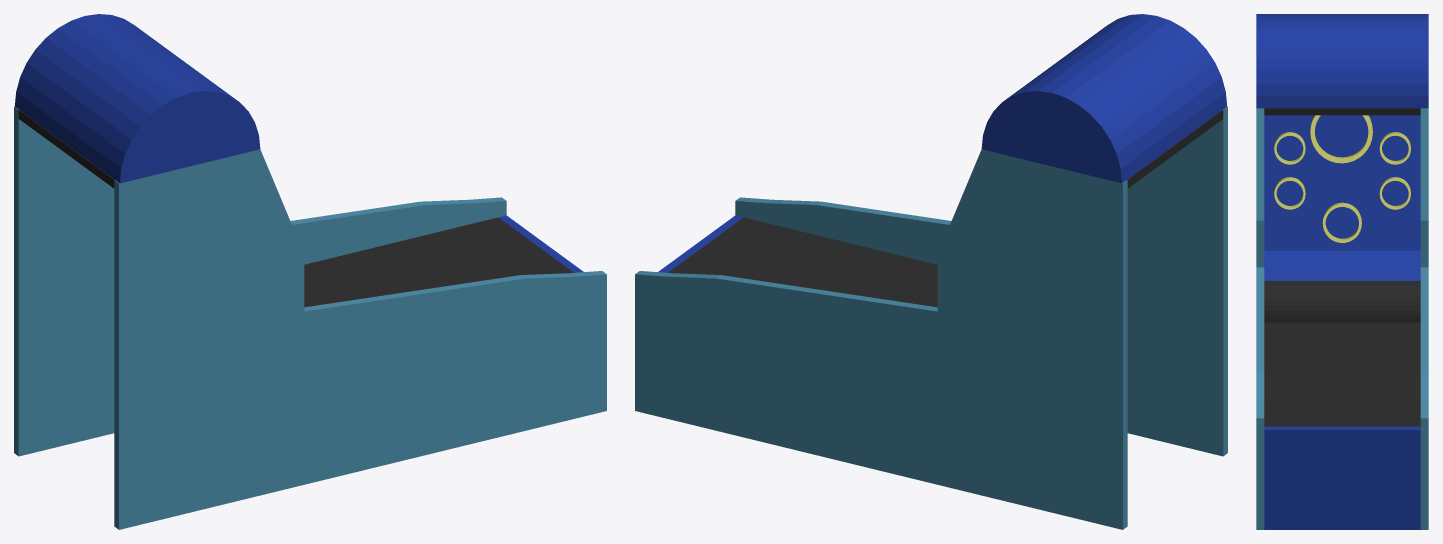
Rendered from CajaPinPonPumB.fbx.
The picture shows the model from 3 angles, left to right: view 1: azimuth 30°, elevation 25°; view 2: azimuth 150°, elevation 25°; view 3: azimuth 270°, elevation 25°; orthographic projection. The views are drawn at different scales.
Visible parts, largest first — view 1: Cube.014, Cube.015, Cube.013, Cylinder.013, Cube.010, Cube.011, Cube.012, Cube.016; view 2: Cube.013, Cube.011, Cube.014, Cylinder.013, Cube.010, Cube.015, Cube.012, Cube.016; view 3: Cube.008, Cube.010, Cylinder.013, Cube.016, Cylinder.012, Cube.009, Cube.011, Cube.015, Cube.013, Cube.014, Cube.012, Cylinder.014 (+5 smaller).
Boxes of the visible parts, box(x1,y1,x2,y2) form: Cube.014: box(114, 149, 304, 529); Cube.015: box(304, 271, 606, 484); Cube.013: box(14, 106, 114, 456); Cylinder.013: box(14, 14, 260, 183); Cube.010: box(304, 217, 573, 307); Cube.011: box(290, 197, 506, 264); Cube.012: box(18, 110, 114, 188); Cube.016: box(499, 215, 583, 272); Cube.013: box(937, 149, 1127, 529); Cube.011: box(635, 271, 937, 484); Cube.014: box(1127, 106, 1227, 456); Cylinder.013: box(981, 14, 1227, 183); Cube.010: box(668, 217, 937, 307); Cube.015: box(735, 197, 951, 264); Cube.012: box(1127, 110, 1223, 188); Cube.016: box(658, 215, 742, 272); Cube.008: box(1264, 115, 1420, 250); Cube.010: box(1264, 322, 1420, 426); Cylinder.013: box(1256, 14, 1428, 108); Cube.016: box(1264, 426, 1420, 529); Cylinder.012: box(1264, 281, 1420, 322); Cube.009: box(1264, 250, 1420, 280); Cube.011: box(1420, 267, 1428, 529); Cube.015: box(1256, 267, 1264, 529); Cube.013: box(1420, 108, 1428, 267); Cube.014: box(1256, 108, 1264, 267); Cube.012: box(1264, 108, 1420, 115); Cylinder.014: box(1310, 115, 1372, 163).
Size of the model in its own units: 589 by 485 by 220.
